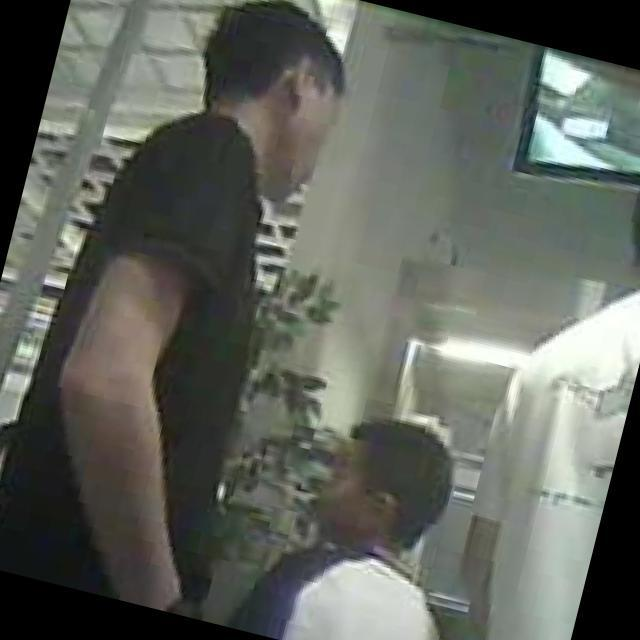person: (0, 0, 369, 625), (434, 145, 640, 640), (212, 387, 509, 640)
